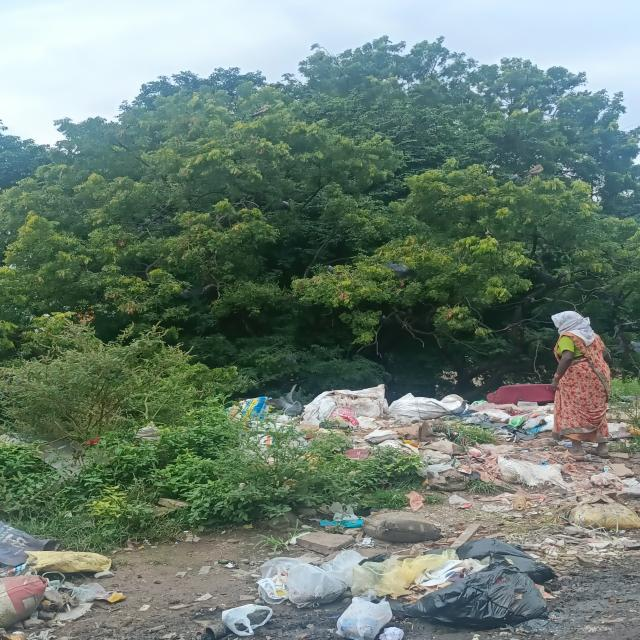garbage: (257, 506, 541, 640), (246, 393, 559, 490), (2, 516, 120, 637), (568, 479, 640, 548)
